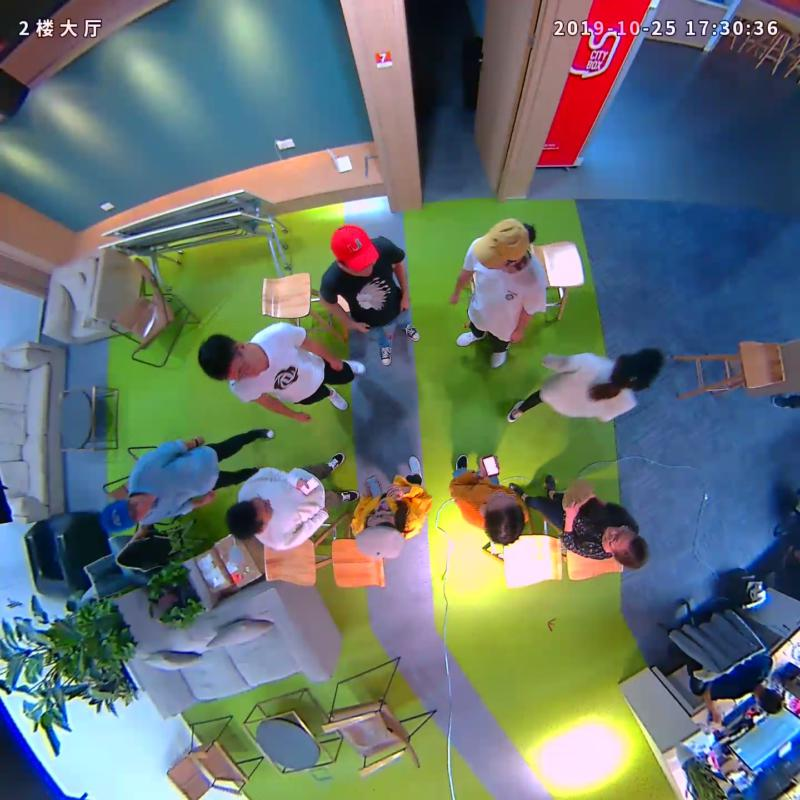head: (472, 217, 529, 273), (197, 332, 261, 381), (353, 508, 404, 559), (328, 222, 379, 272), (608, 347, 664, 391), (484, 489, 524, 548), (225, 496, 274, 542), (602, 524, 647, 570), (100, 495, 152, 534)
